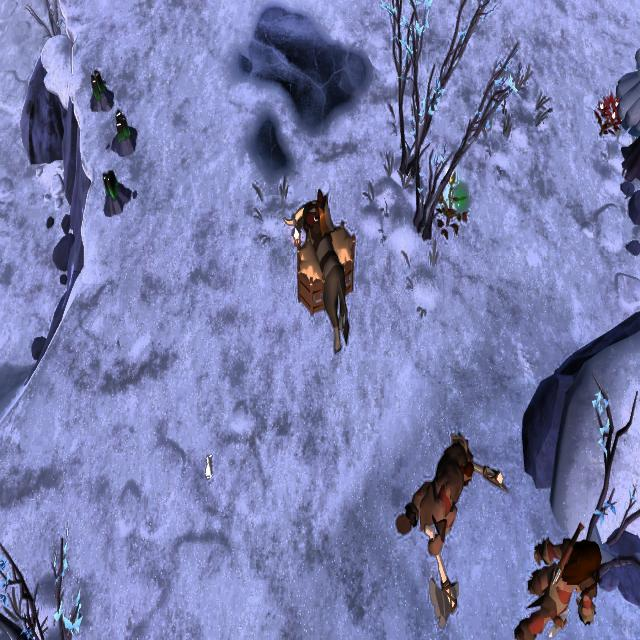enemy_factionKeeper: (514, 529, 602, 640), (402, 422, 472, 548)
fiber_t5: (597, 92, 623, 139)
ore_t3: (100, 164, 120, 202), (89, 66, 106, 101), (114, 105, 132, 138)
